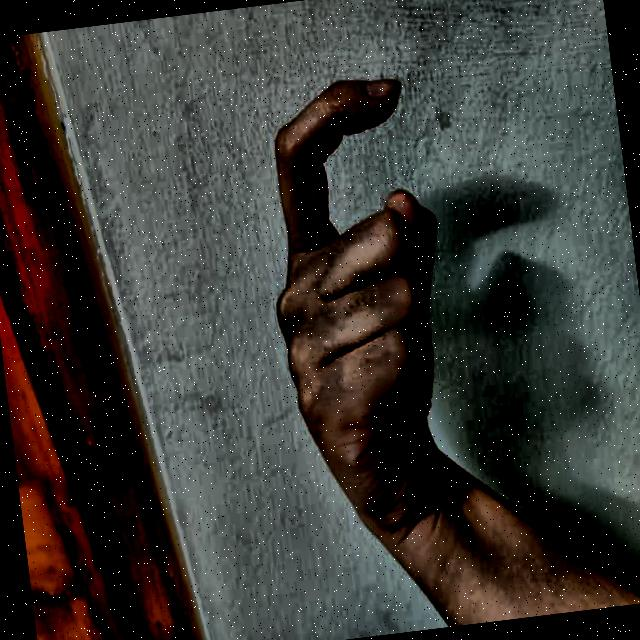E: (208, 26, 526, 560)
